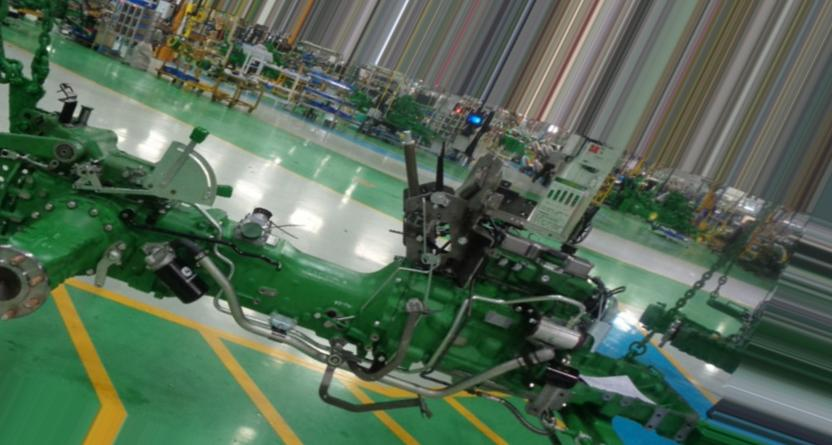engine: (1, 59, 695, 439)
